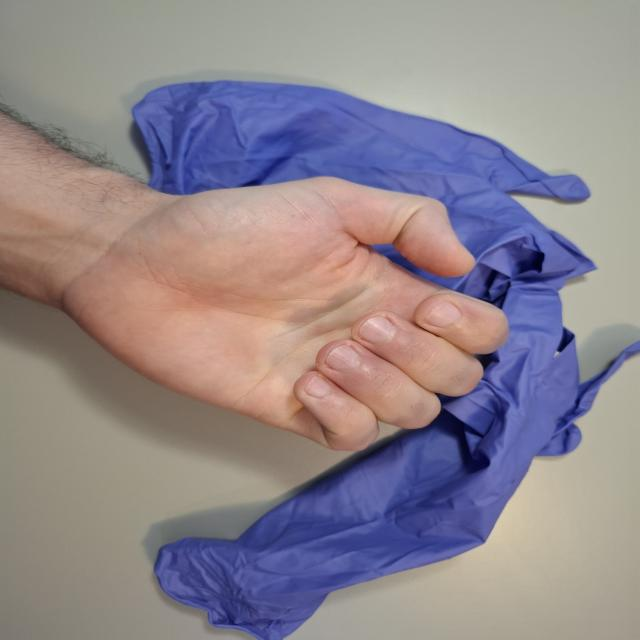glove_off: (51, 173, 515, 456)
